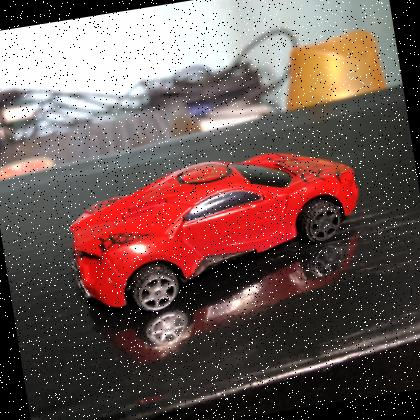Car: (54, 132, 378, 330)
